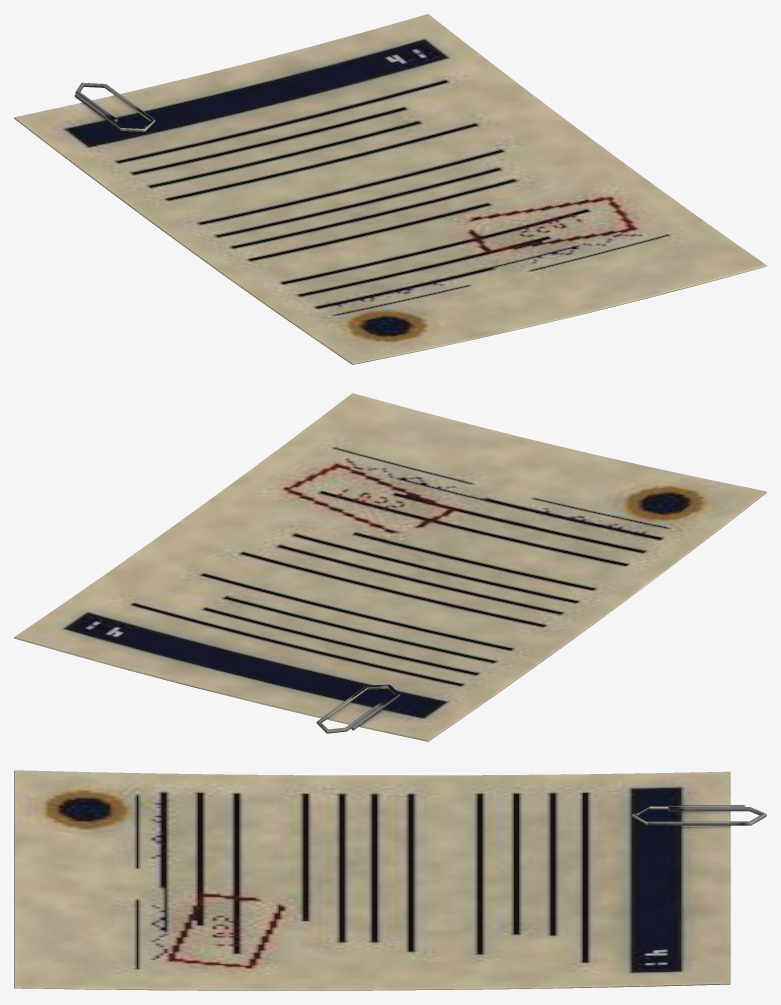
Rendered from contract_paper.glb.
3 views of the same model, one above another, from view 1: azimuth 30°, elevation 25°; view 2: azimuth 150°, elevation 25°; view 3: azimuth 270°, elevation 25° (orthographic). The views are drawn at different scales.
Visible parts, largest first — view 1: contract_paper; view 2: contract_paper; view 3: contract_paper.
Part boxes in pixels (bbox=[...]): contract_paper: bbox=[14, 14, 766, 364]; contract_paper: bbox=[14, 393, 766, 741]; contract_paper: bbox=[14, 770, 766, 990].
Size of the model in its own units: 0.21 by 0.00553 by 0.312.
Materials: 1 (1 with a texture image).
